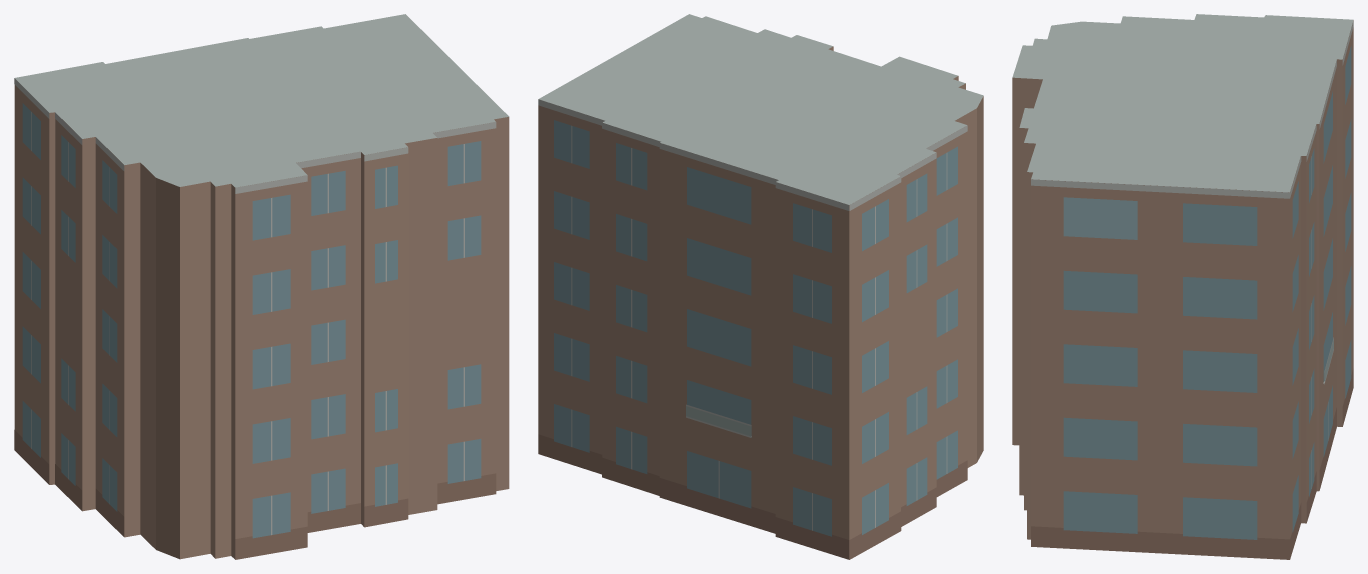
The model's file is survey-upis-32924430.glb.
The picture shows the model from 3 angles, left to right: view 1: azimuth 30°, elevation 25°; view 2: azimuth 150°, elevation 25°; view 3: azimuth 270°, elevation 25°; orthographic projection. The views are drawn at different scales.
Visible parts, largest first — view 1: survey-upis-32924430.tmp; view 2: survey-upis-32924430.tmp; view 3: survey-upis-32924430.tmp.
Boxes of the visible parts, bbox=[...] form: survey-upis-32924430.tmp: bbox=[14, 14, 509, 559]; survey-upis-32924430.tmp: bbox=[538, 14, 983, 559]; survey-upis-32924430.tmp: bbox=[1012, 14, 1353, 559].
Size of the model in its own units: 14.8 by 14.2 by 11.97.
